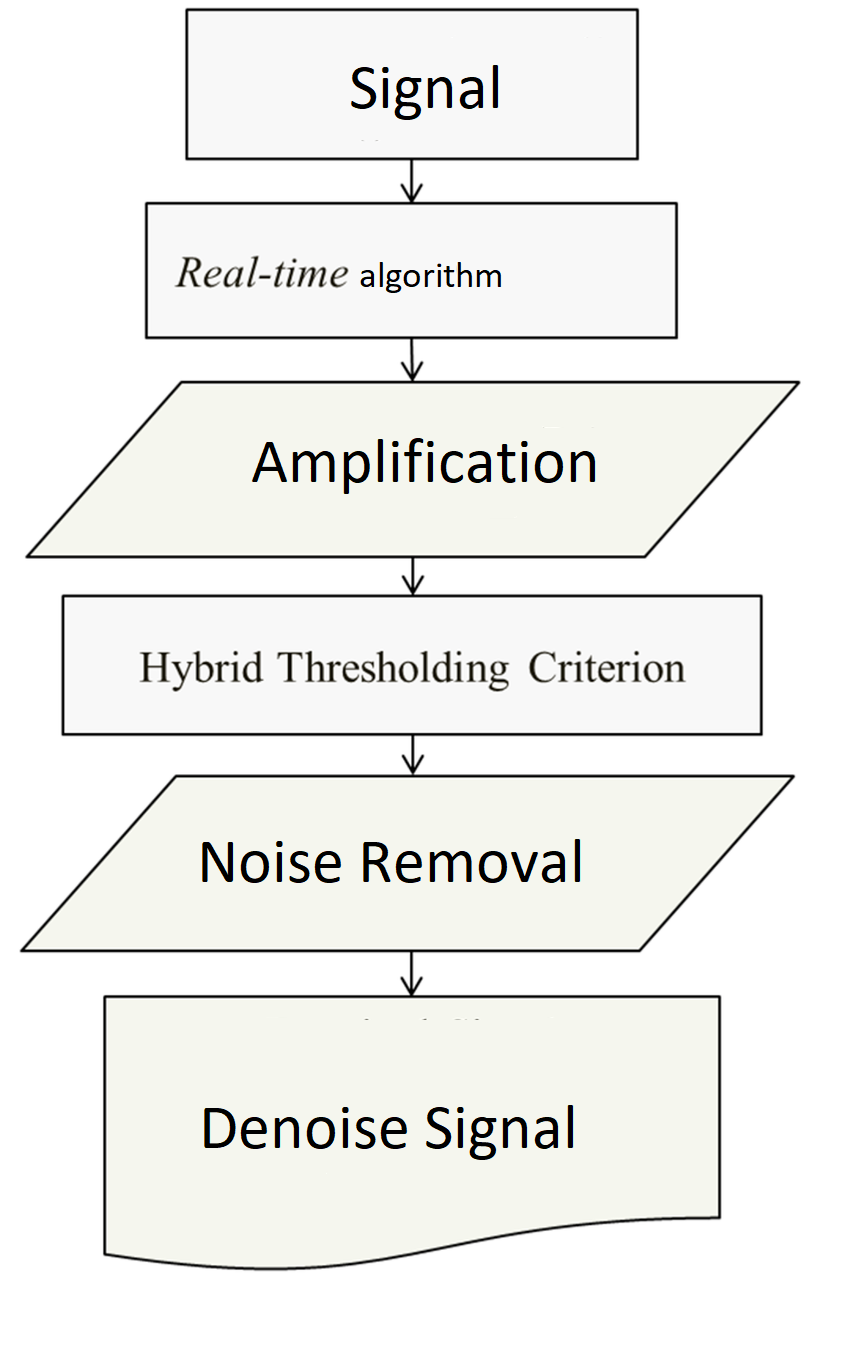arrow: (395, 551, 437, 604), (400, 716, 431, 779), (398, 945, 431, 1001), (395, 335, 431, 383), (398, 154, 429, 206)
data: (18, 376, 804, 566), (16, 770, 798, 960)
process: (95, 989, 731, 1279), (54, 587, 768, 741), (137, 195, 685, 343), (181, 1, 645, 168)
text: (135, 643, 689, 695), (193, 1095, 591, 1162), (170, 251, 660, 299), (245, 435, 606, 499), (193, 835, 587, 889), (339, 56, 506, 124)
